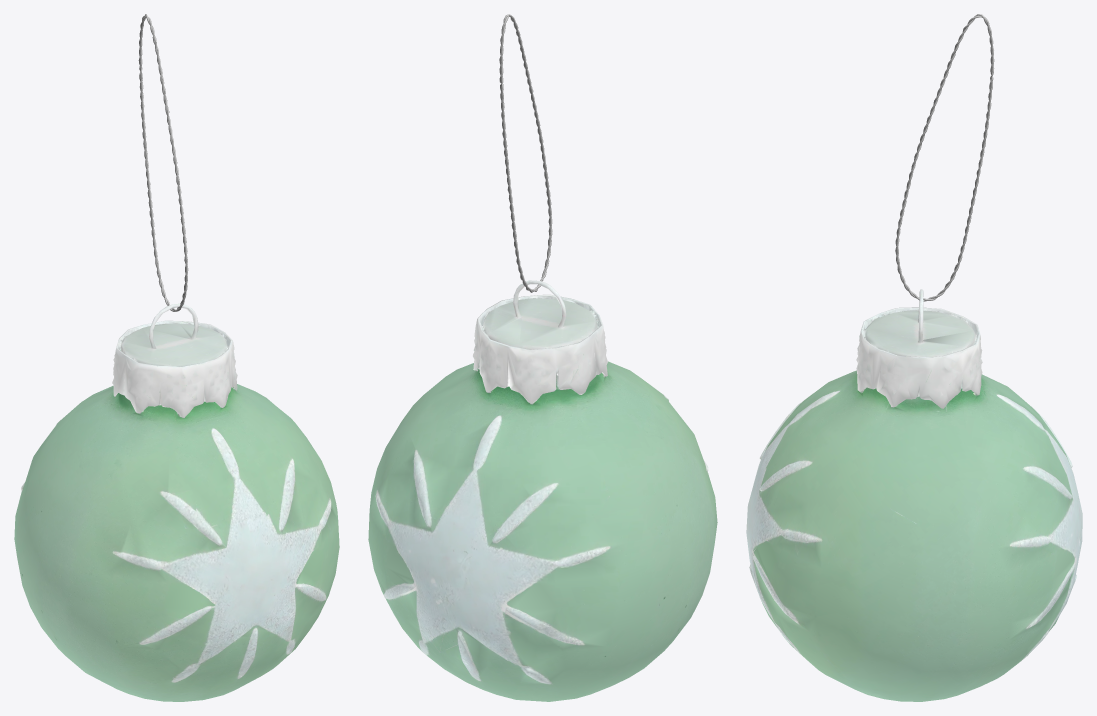
The model's file is Mint_Glitter_orb.glb.
The picture shows the model from 3 angles, left to right: view 1: azimuth 30°, elevation 25°; view 2: azimuth 150°, elevation 25°; view 3: azimuth 270°, elevation 25°; orthographic projection. The views are drawn at different scales.
Parts seen in each view (by area): view 1: Mesh1.0, GN Instance; view 2: Mesh1.0, GN Instance; view 3: Mesh1.0, GN Instance.
Boxes of the visible parts, bbox=[...] form: Mesh1.0: bbox=[14, 303, 339, 701]; GN Instance: bbox=[138, 14, 188, 311]; Mesh1.0: bbox=[368, 280, 717, 701]; GN Instance: bbox=[499, 14, 552, 292]; Mesh1.0: bbox=[746, 289, 1082, 701]; GN Instance: bbox=[895, 14, 994, 301].
Size of the model in its own units: 0.04 by 0.0885 by 0.0401.
2 materials, 1 textured.
